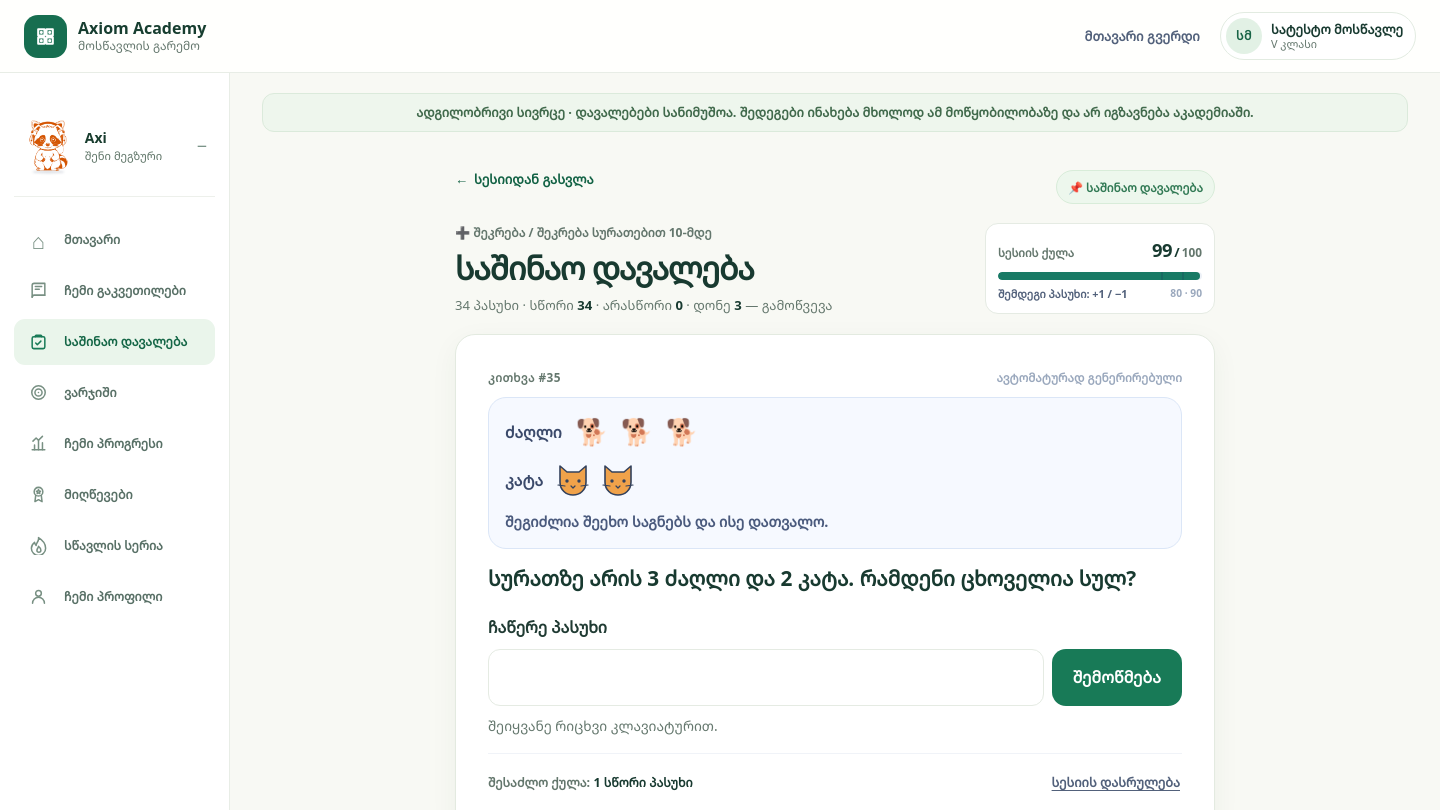
Test case: restores an assignment draft and records a completed result against that assignment
Type "5" into the field labelled "ჩაწერე პასუხი" at (766, 677), box [488, 649, 1044, 706]
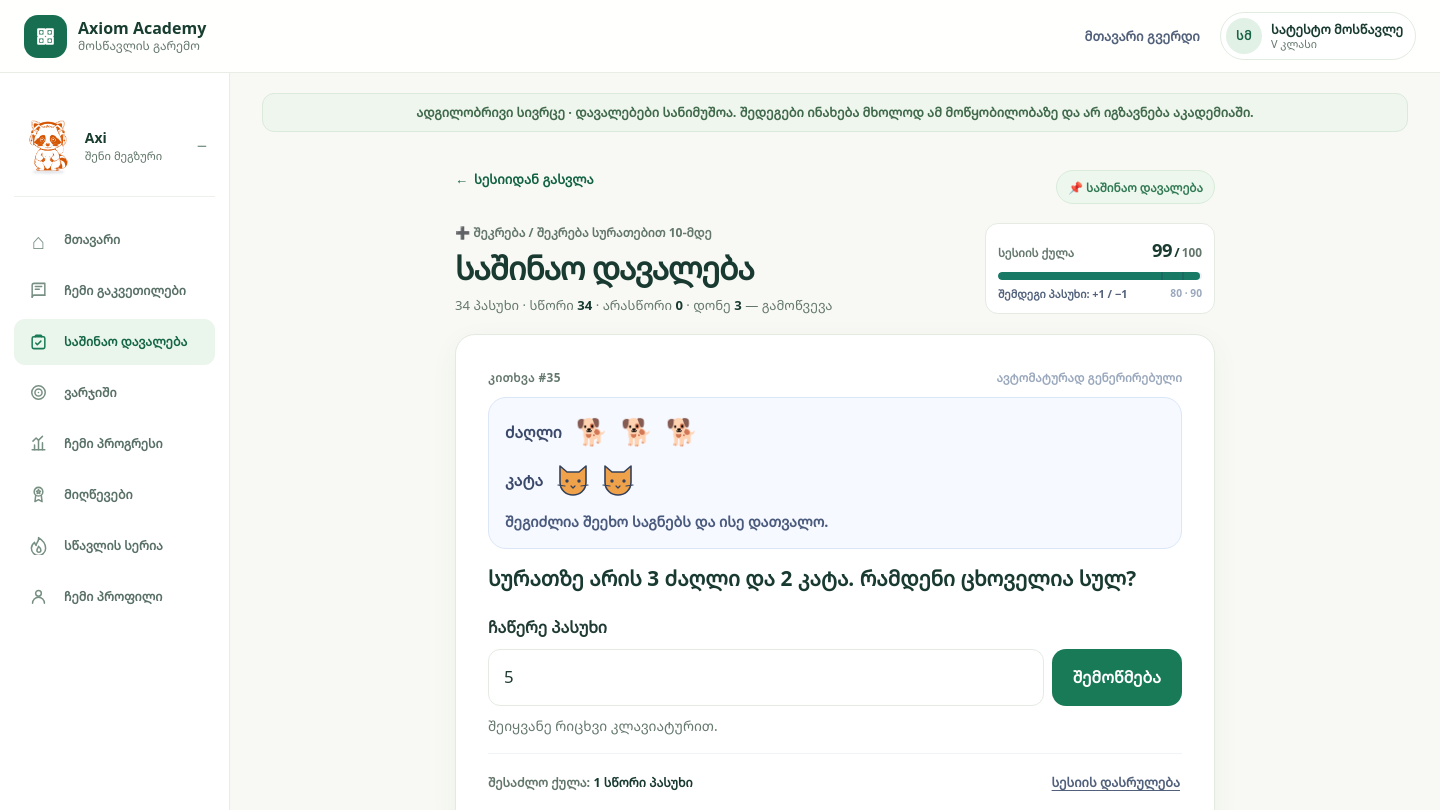
Click the button "შემოწმება" at (1117, 677), box [1052, 649, 1182, 706]
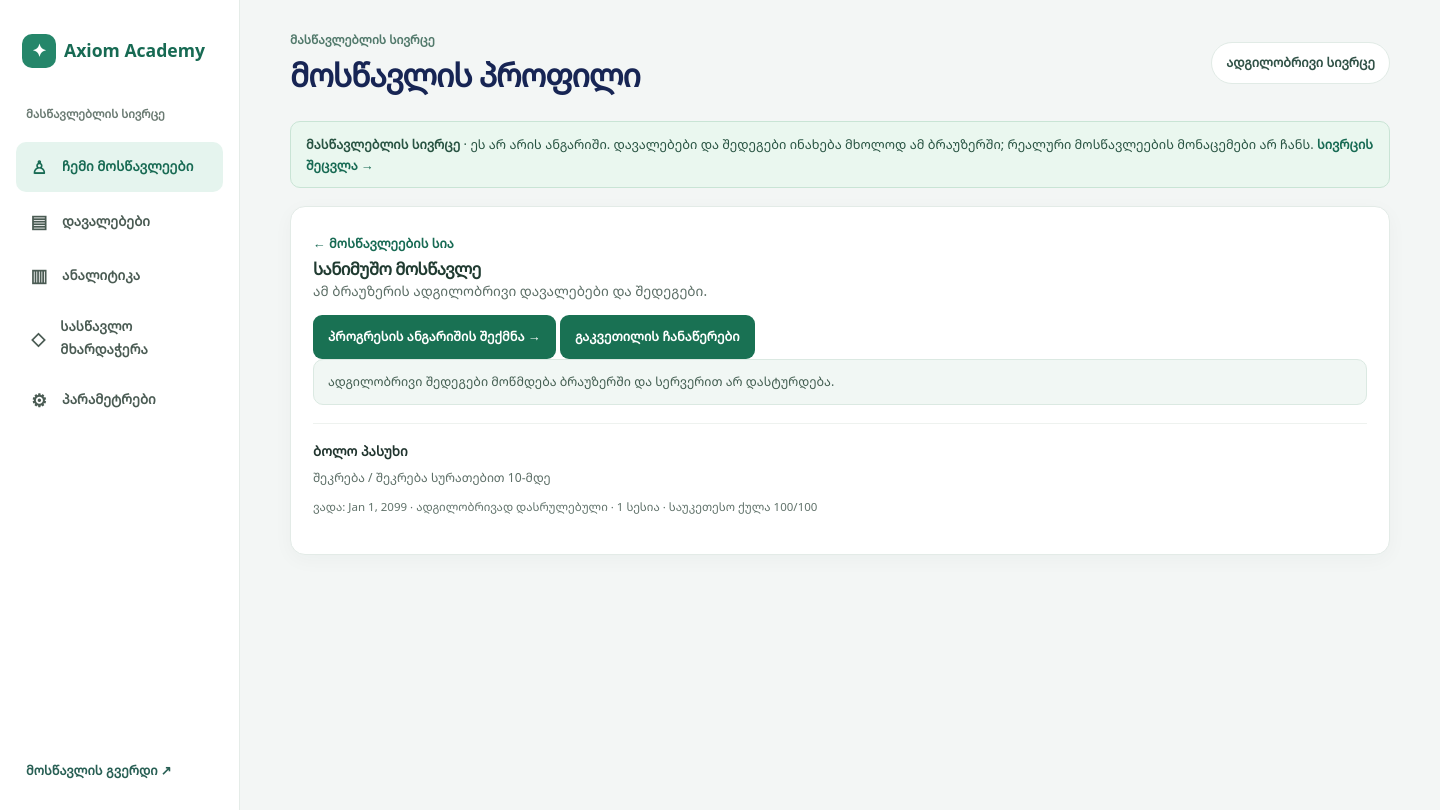
Result: the list item "ბოლო პასუხი" shows "ადგილობრივად დასრულებული" at [416, 499, 608, 514]
